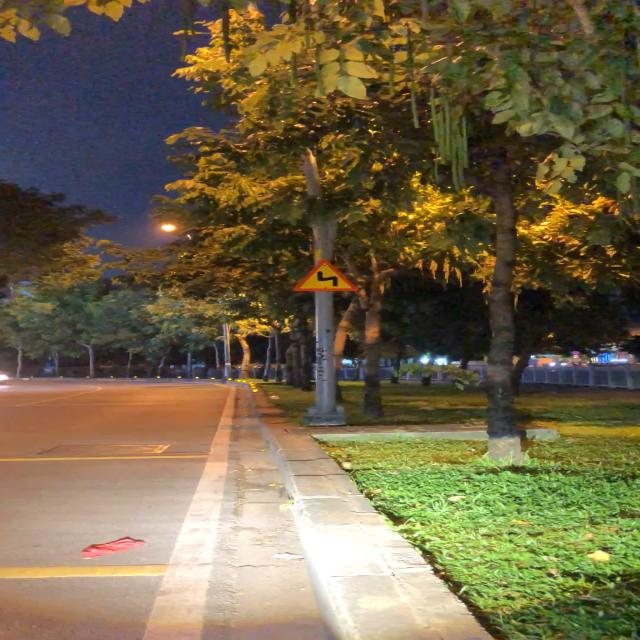Bien bao nhieu cho ngoat nguy hiem lien tiep: (287, 257, 358, 295)
